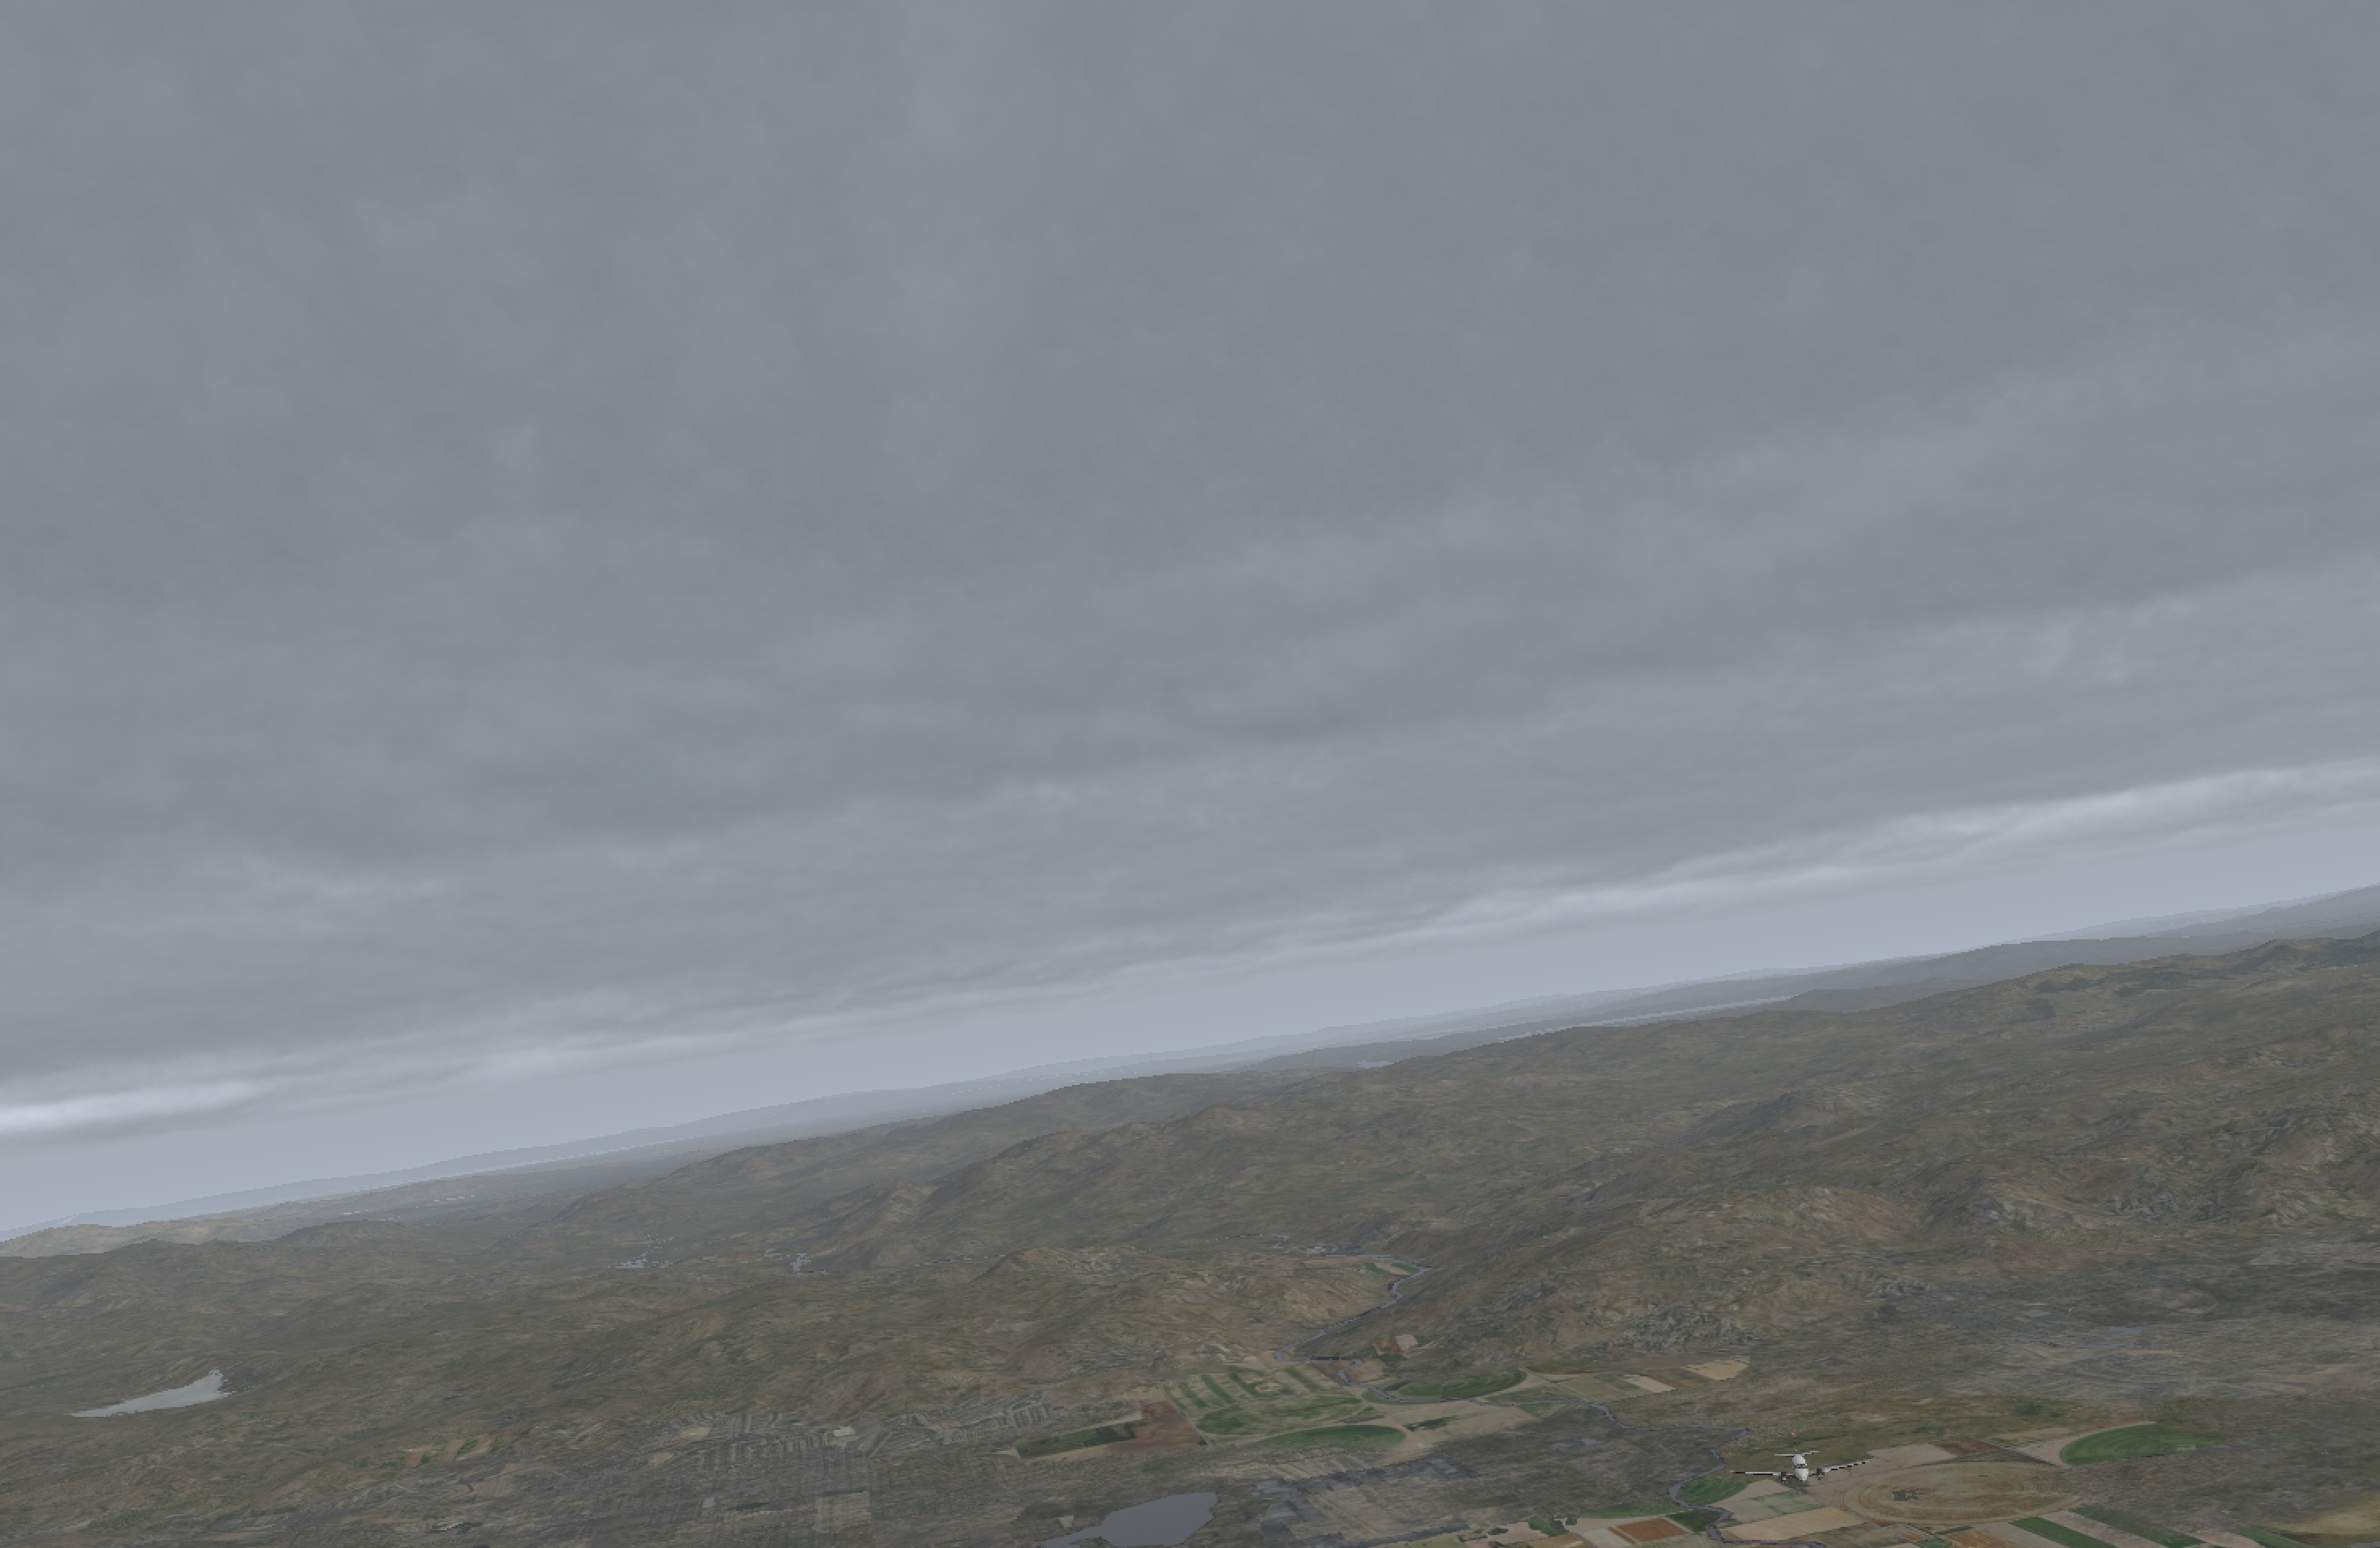aircraft: (1738, 1453, 1865, 1499)
